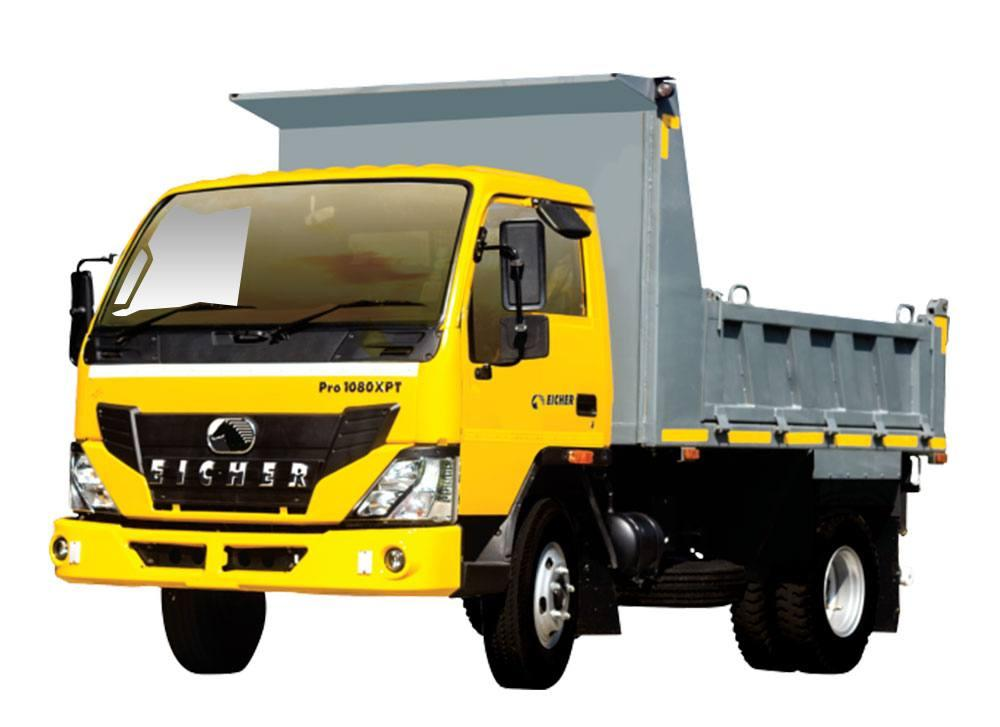truck: (47, 72, 948, 691)
